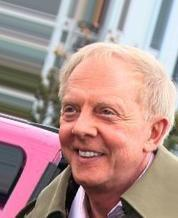face: (61, 97, 118, 167)
